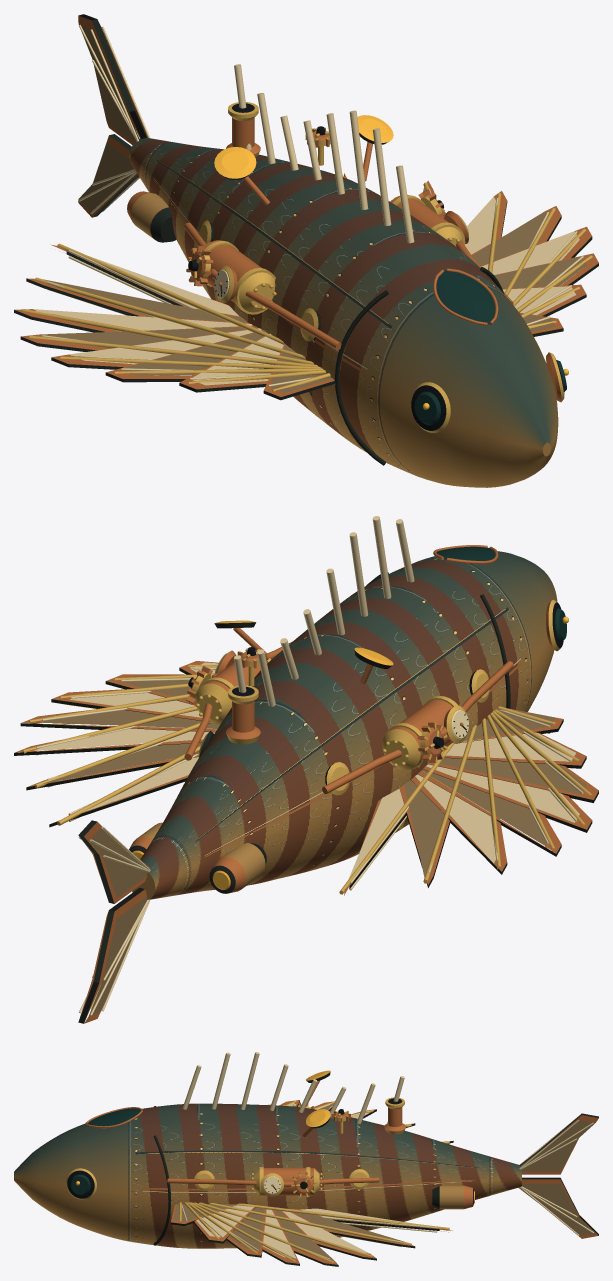
3 renders of one model, top to bottom at view 1: azimuth 30°, elevation 25°; view 2: azimuth 150°, elevation 25°; view 3: azimuth 270°, elevation 25°, orthographic. The views are drawn at different scales.
Visible parts, largest first — view 1: lionfish_hull; view 2: lionfish_hull; view 3: lionfish_hull.
Part boxes in pixels (box(x1,y1,x2,y2)): lionfish_hull: box(14, 14, 598, 487); lionfish_hull: box(14, 516, 598, 1023); lionfish_hull: box(14, 1052, 598, 1266).
Bounding box in the file's own units: 25.23 × 13.71 × 38.
1 material, 1 textured.
